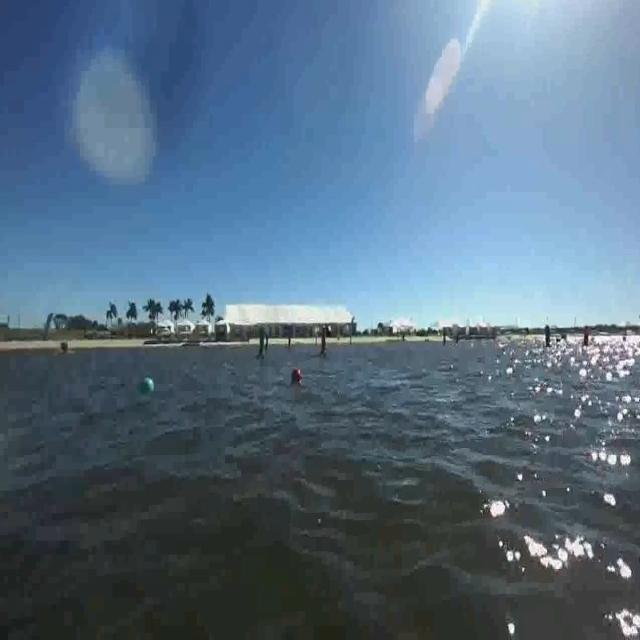green-buoy: (140, 376, 154, 394)
green-column-buoy: (256, 323, 268, 362)
red-buoy: (292, 368, 301, 380)
